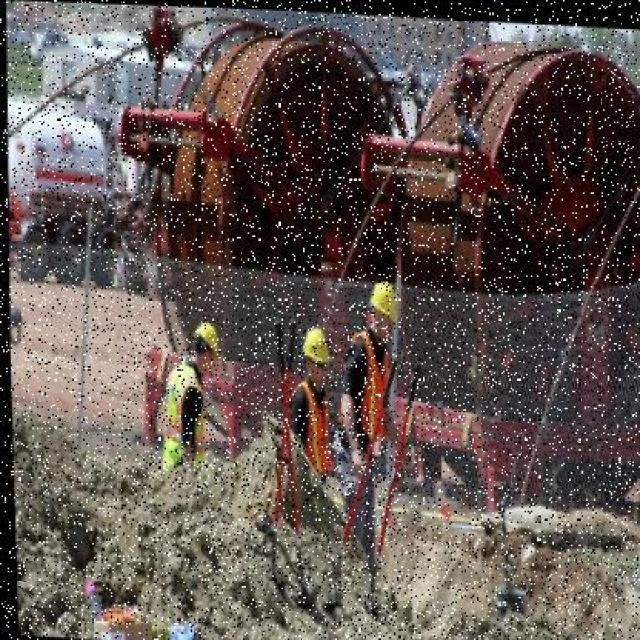helmet: (362, 271, 400, 327), (296, 318, 334, 374), (186, 311, 220, 369)
vest: (155, 357, 209, 471), (288, 374, 335, 474), (354, 334, 392, 442)
